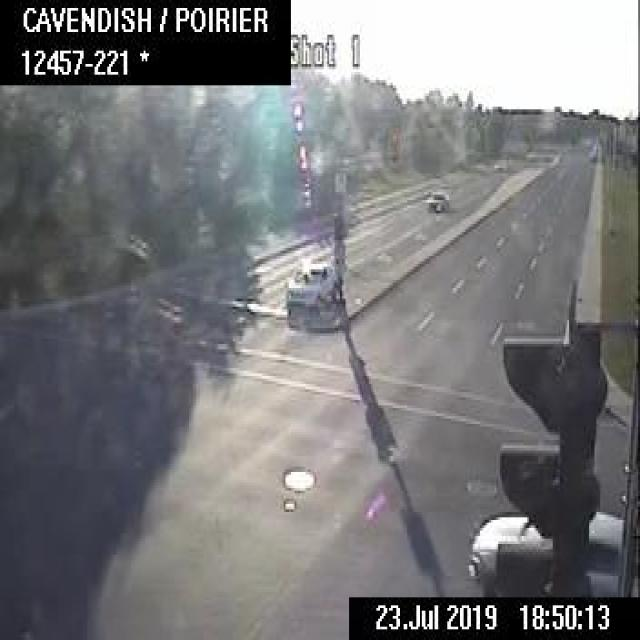vehicle: (468, 506, 620, 594), (282, 256, 333, 307), (422, 189, 447, 211)
